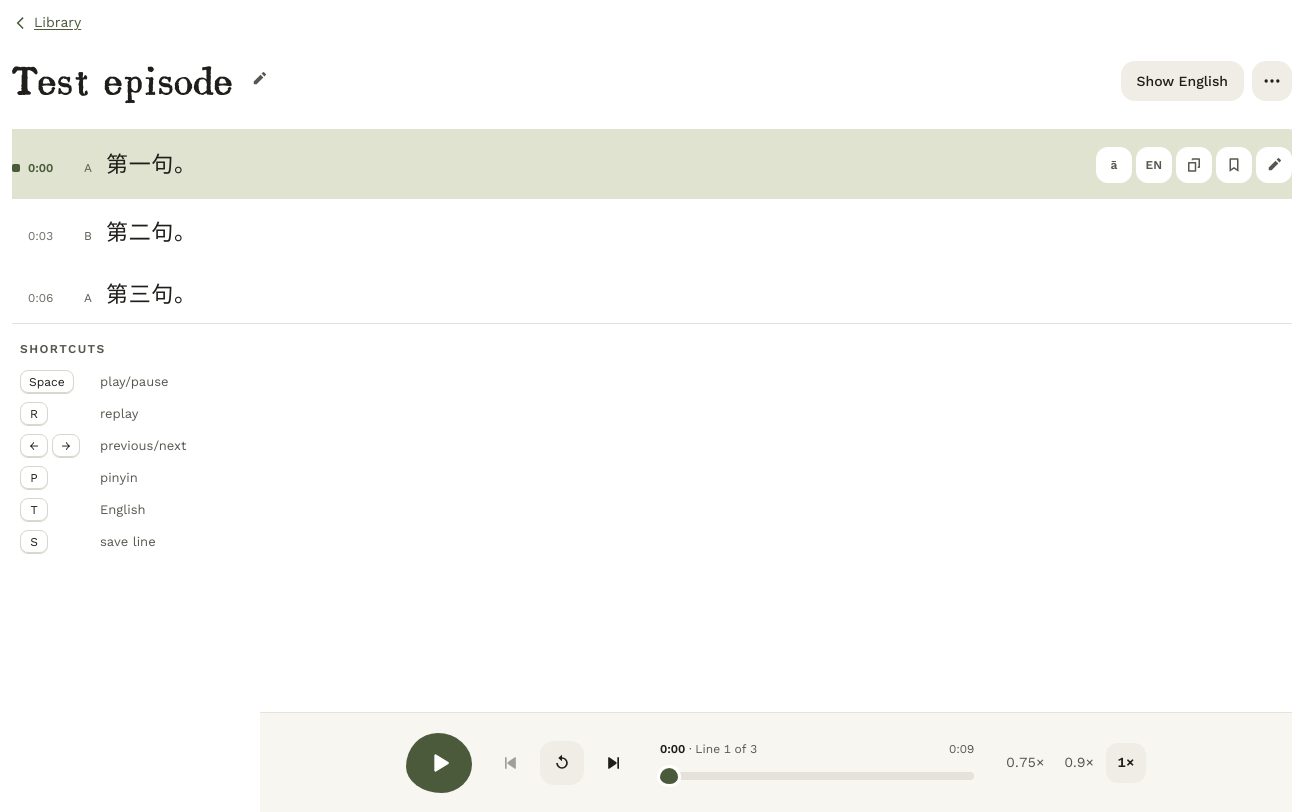
Scenario: Renaming a local episode › renames from the episode page, updating the heading and tab title
The width and height of the screenshot is (1304, 812).
Click the button named "Rename episode" at (258, 79), box [240,61,276,97]
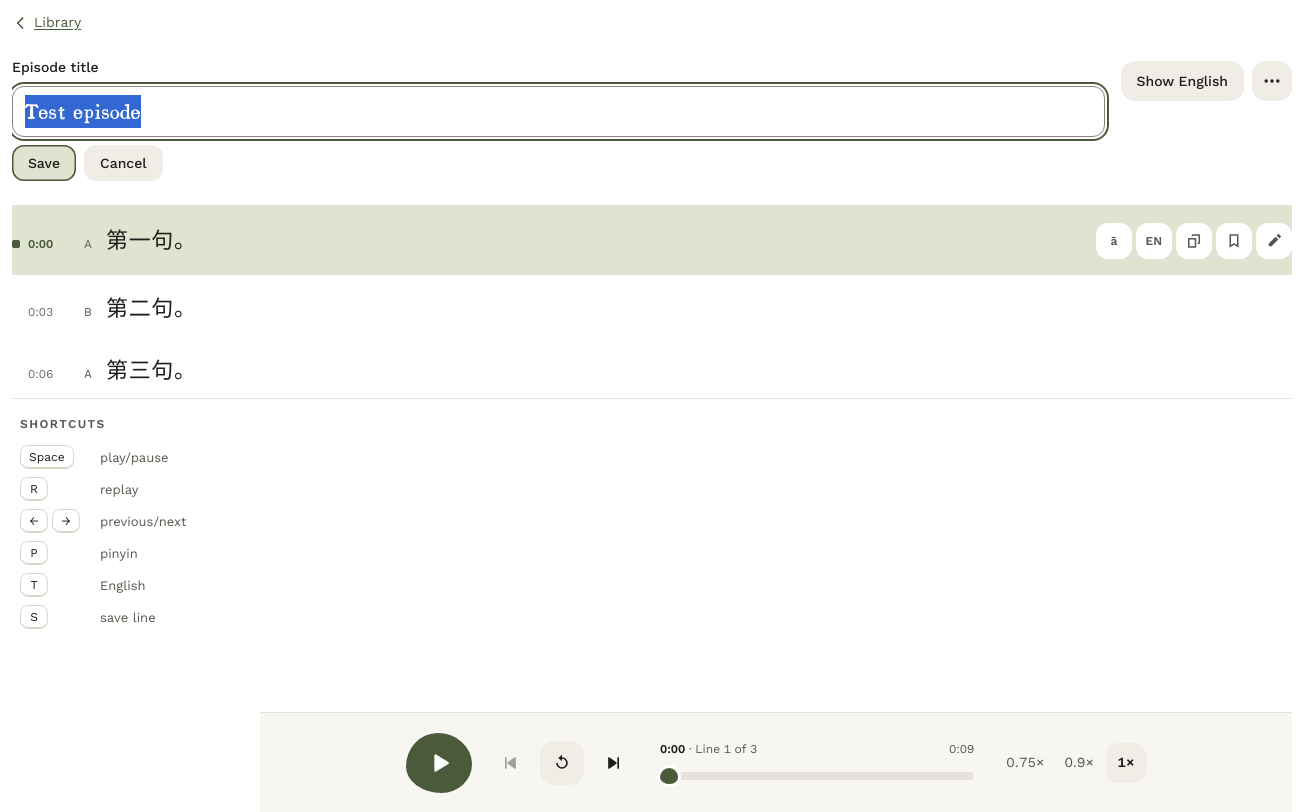
Replace the text in the field labelled "Episode title" with "Practice clip" at (558, 112), box [12,86,1104,137]
Then press Enter
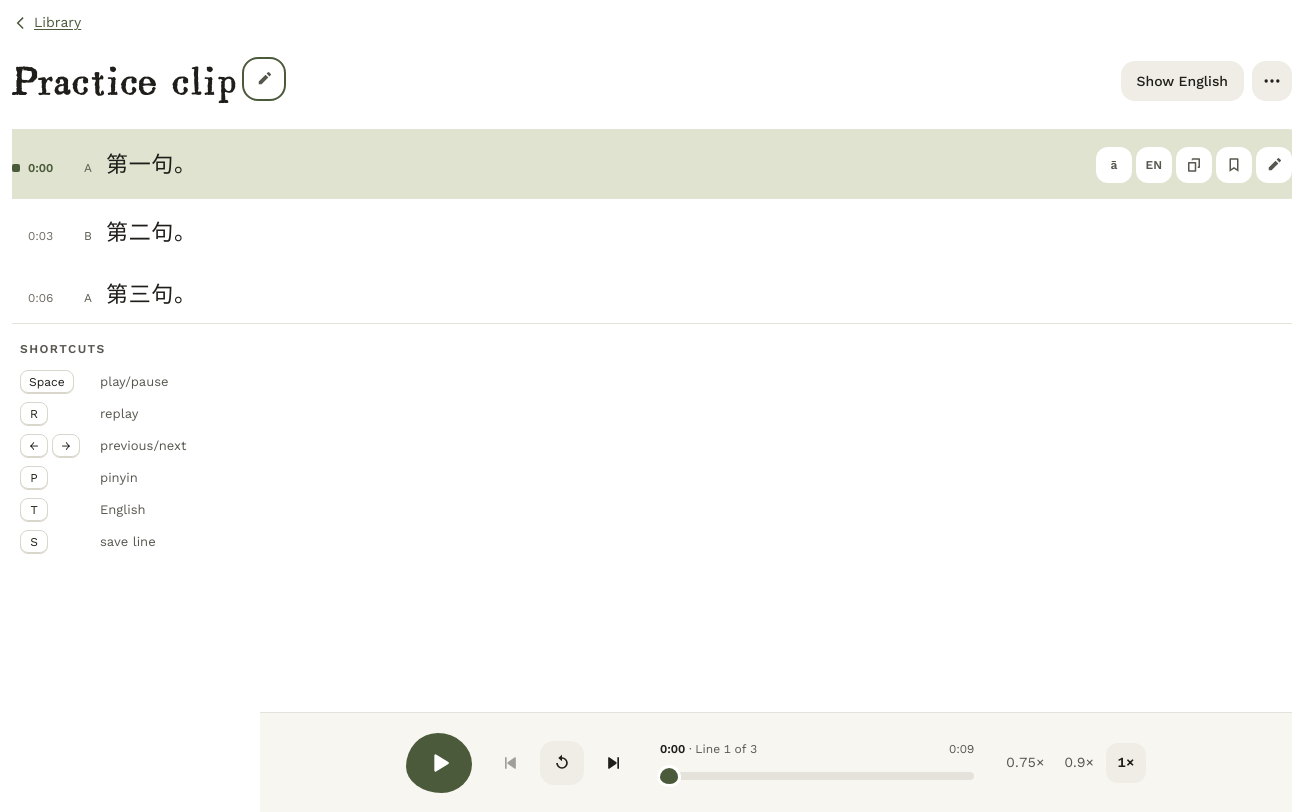
Result: the heading "Practice clip" is shown at [12,57,238,105]
